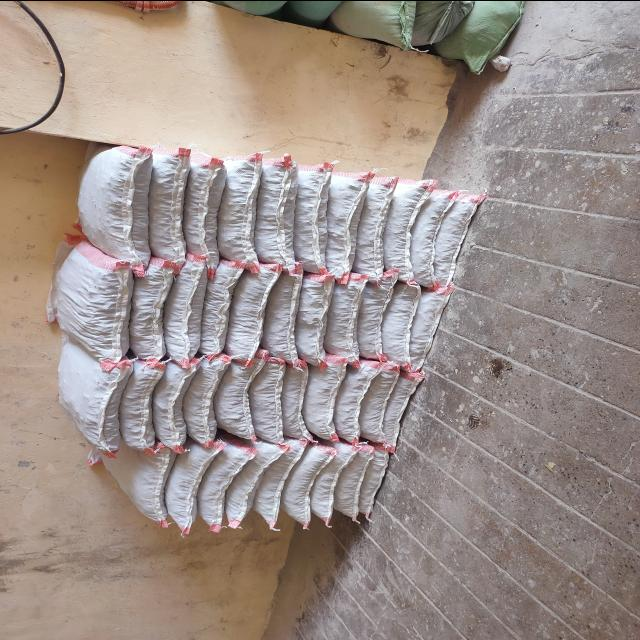Gravel: (69, 153, 141, 251), (51, 252, 123, 350), (57, 348, 117, 451), (145, 146, 189, 264), (110, 453, 170, 528), (224, 152, 262, 262), (262, 154, 300, 264), (299, 163, 337, 273), (327, 166, 365, 276), (358, 171, 396, 281), (382, 171, 420, 281), (189, 152, 224, 257), (427, 191, 463, 291), (172, 264, 206, 362), (206, 261, 240, 359), (234, 263, 268, 361), (268, 263, 301, 361), (303, 273, 336, 371), (331, 269, 364, 367), (361, 270, 394, 368), (386, 278, 419, 376), (137, 264, 169, 360), (168, 451, 202, 534), (200, 446, 234, 529), (227, 445, 261, 528), (258, 446, 292, 529), (286, 446, 320, 529), (311, 445, 345, 528), (125, 359, 155, 450), (193, 357, 223, 448), (157, 361, 187, 452), (258, 357, 288, 445), (283, 360, 313, 448), (311, 358, 341, 446), (336, 355, 366, 443), (358, 362, 390, 444), (381, 367, 413, 449), (224, 356, 254, 442), (411, 281, 437, 379), (337, 445, 359, 528), (361, 445, 383, 528)
